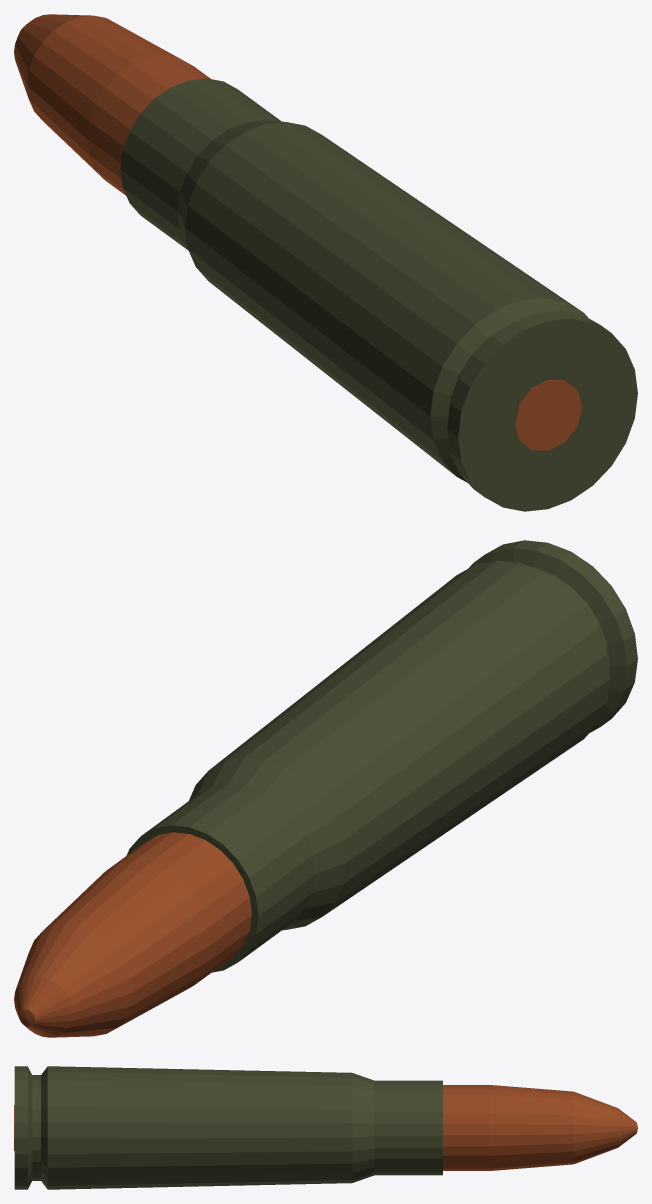
The model's file is municao_762.glb.
3 views of the same model, one above another, from view 1: azimuth 30°, elevation 25°; view 2: azimuth 150°, elevation 25°; view 3: azimuth 270°, elevation 25° (orthographic). The views are drawn at different scales.
Parts seen in each view (by area): view 1: municao_762_laca_verde, municao_762_cobre_bala; view 2: municao_762_laca_verde, municao_762_cobre_bala; view 3: municao_762_laca_verde, municao_762_cobre_bala.
Boxes of the visible parts, <box> form: municao_762_laca_verde: <box>120,78,637,511</box>; municao_762_cobre_bala: <box>14,14,582,450</box>; municao_762_laca_verde: <box>126,540,637,972</box>; municao_762_cobre_bala: <box>14,832,251,1037</box>; municao_762_laca_verde: <box>14,1066,442,1189</box>; municao_762_cobre_bala: <box>14,1085,637,1170</box>.
Size of the model in its own units: 0.0112 by 0.0112 by 0.0564.
